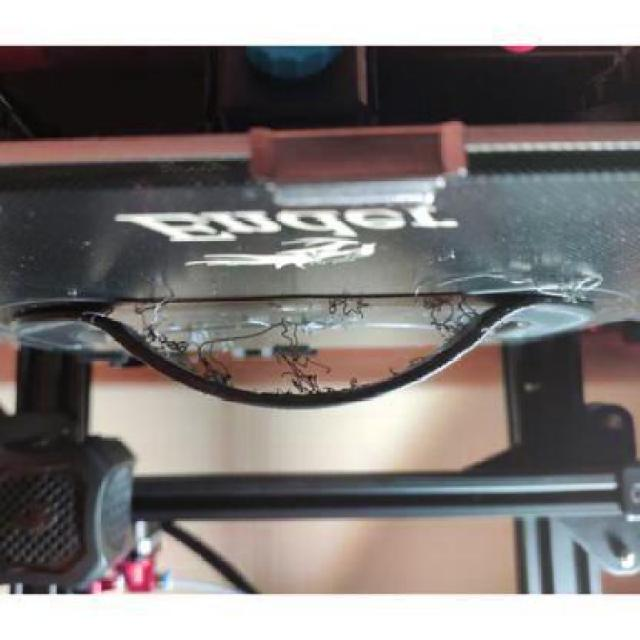Spaghetti: (133, 294, 479, 398)
